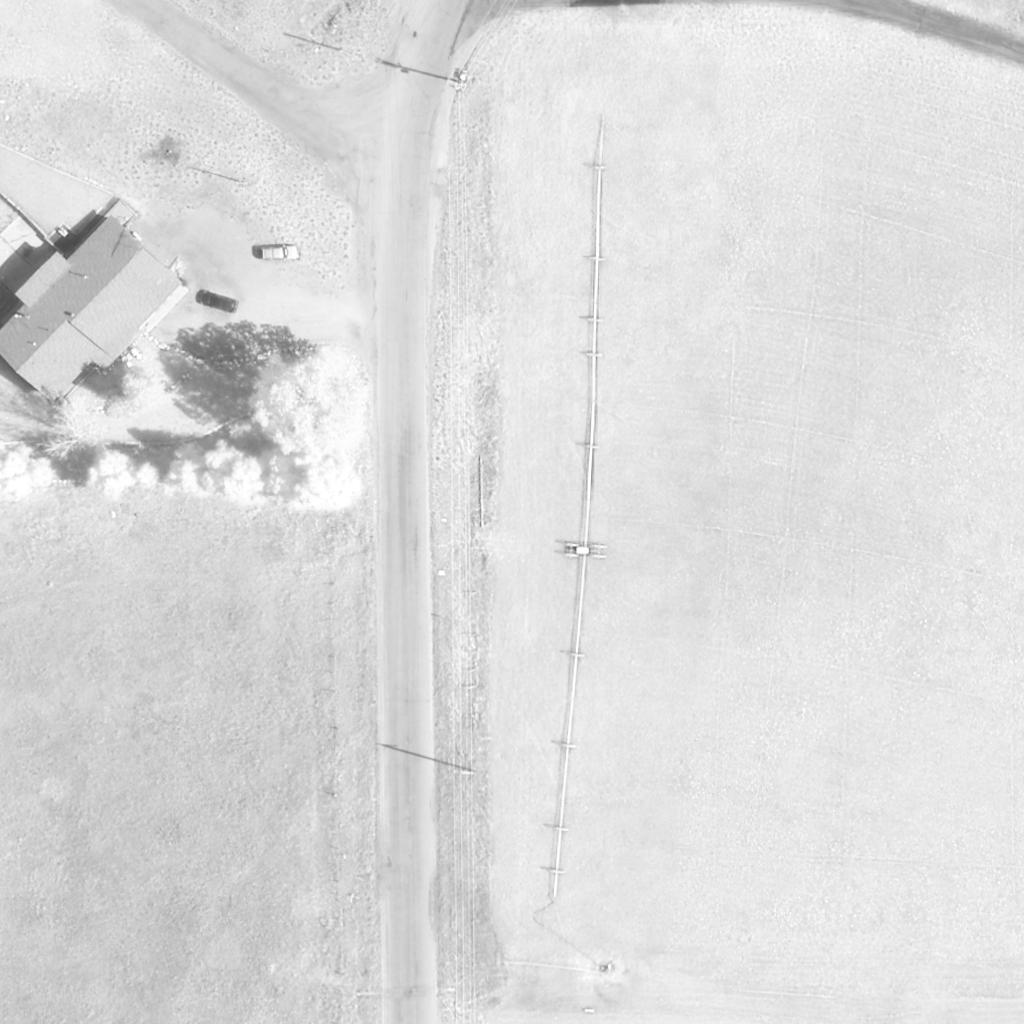vehicle: (193, 290, 241, 314), (261, 248, 299, 260)
